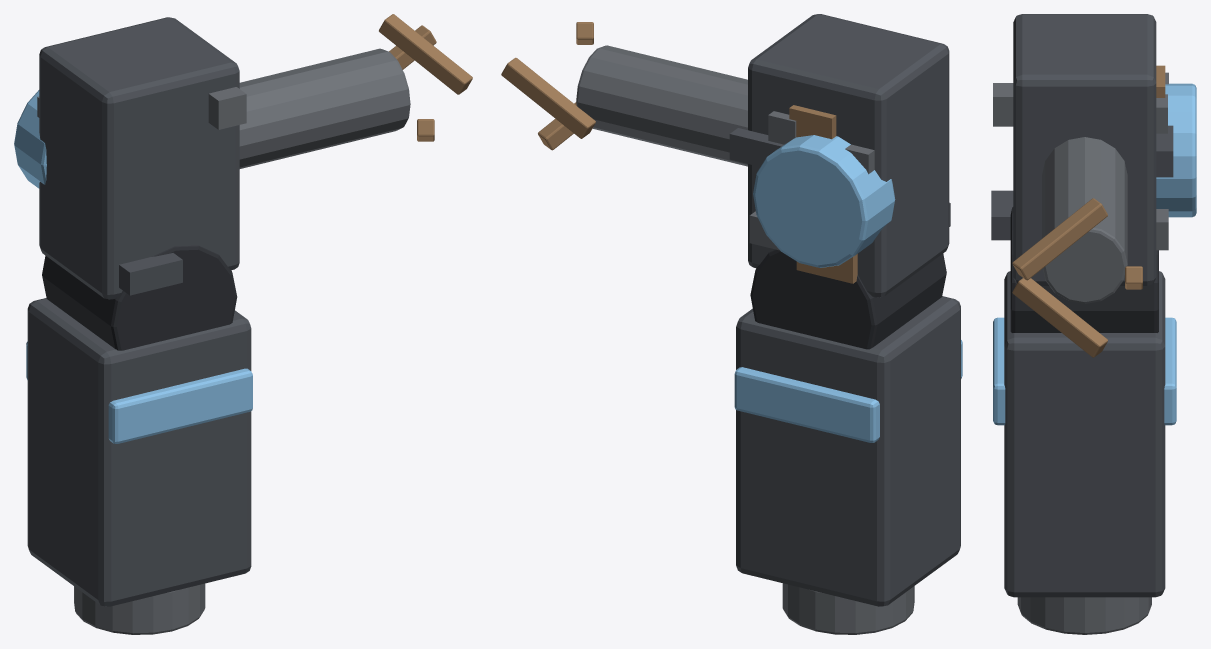
The model's file is module_arm_grapple.fbx.
The picture shows the model from 3 angles, left to right: view 1: azimuth 30°, elevation 25°; view 2: azimuth 150°, elevation 25°; view 3: azimuth 270°, elevation 25°; orthographic projection.
Parts seen in each view (by area): view 1: SM_Module_ArmGrapple; view 2: SM_Module_ArmGrapple; view 3: SM_Module_ArmGrapple.
Part boxes in pixels (x1,y1,x2,y2): SM_Module_ArmGrapple: (14, 14, 472, 634); SM_Module_ArmGrapple: (501, 14, 962, 634); SM_Module_ArmGrapple: (991, 14, 1196, 634).
Size of what is drawn, in the model's own units: 51.69 by 69.5 by 22.96.
